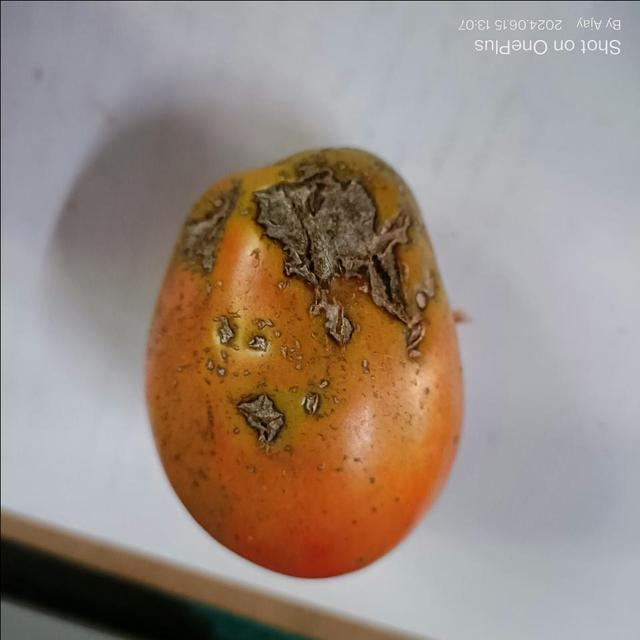Bacterial Spot Fruit: (12, 21, 229, 279)
